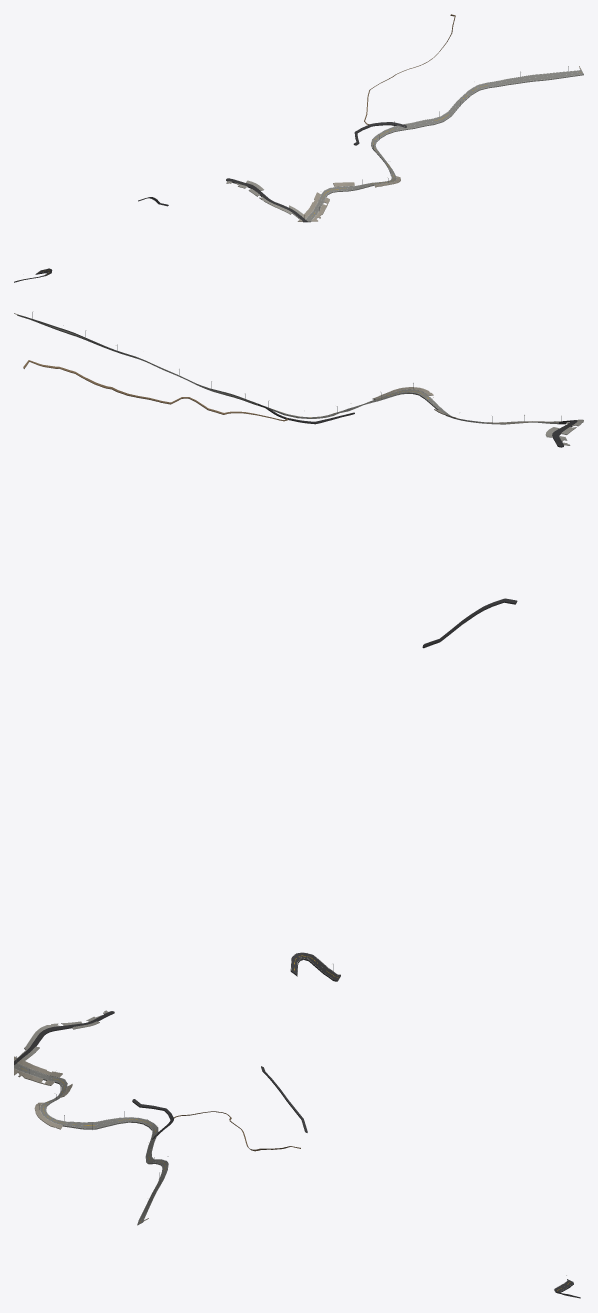
3 renders of one model, top to bottom at view 1: azimuth 30°, elevation 25°; view 2: azimuth 150°, elevation 25°; view 3: azimuth 270°, elevation 25°, orthographic. The views are drawn at different scales.
Size of the model in its own units: 586 by 383 by 586.
